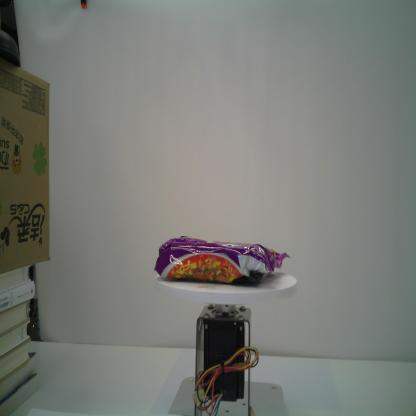Instant Noodles: (153, 235, 290, 286)
